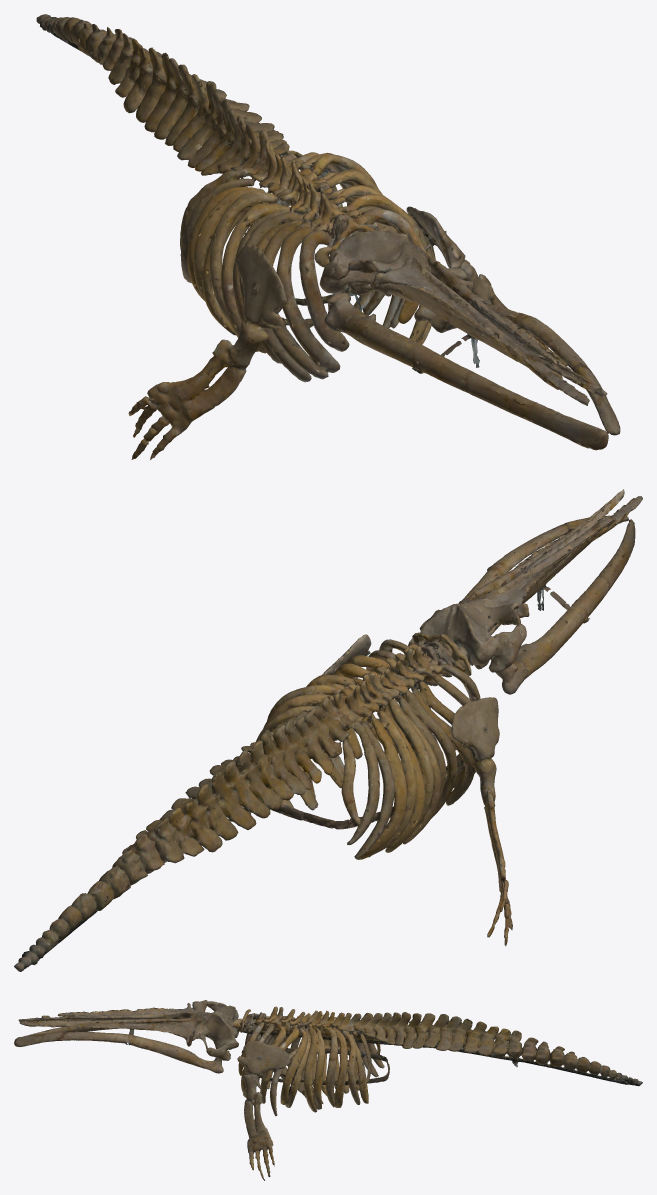
File: cetotherium.glb
3 views of the same model, one above another, from view 1: azimuth 30°, elevation 25°; view 2: azimuth 150°, elevation 25°; view 3: azimuth 270°, elevation 25° (orthographic). The views are drawn at different scales.
Bounding box in the file's own units: 96934 × 64509 × 275207.
1 material, 1 textured.
